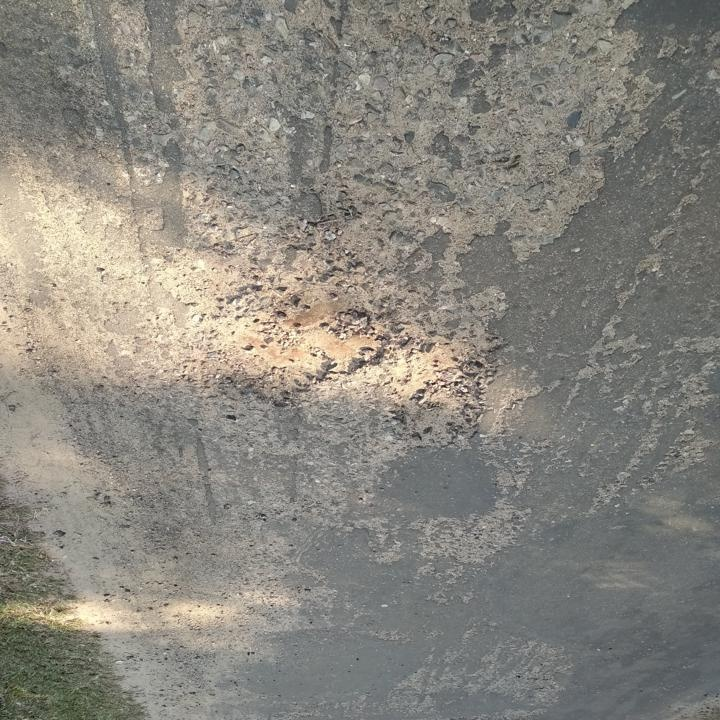pothole: (195, 270, 387, 409), (381, 328, 496, 447)
